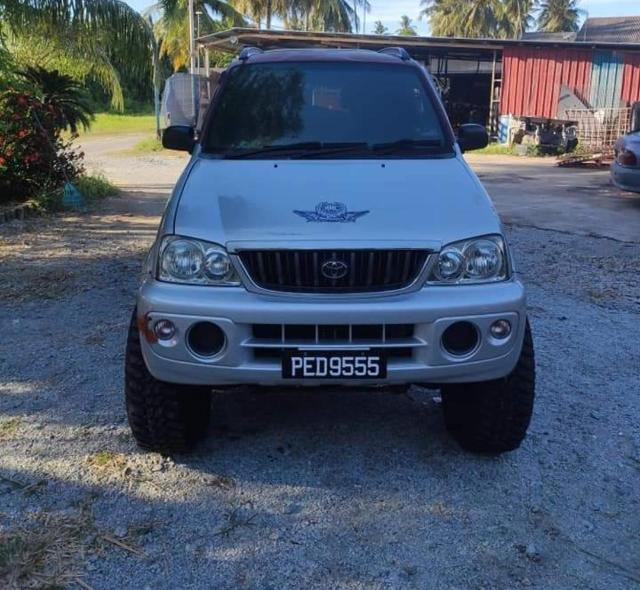License_Plate: (282, 353, 388, 381)
car: (111, 43, 539, 454)
